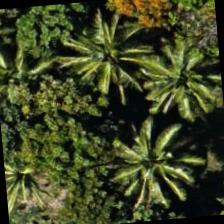Kelapa_Sawit: (98, 110, 196, 208), (60, 4, 158, 102), (136, 25, 223, 124), (1, 125, 77, 222), (0, 30, 58, 126)
